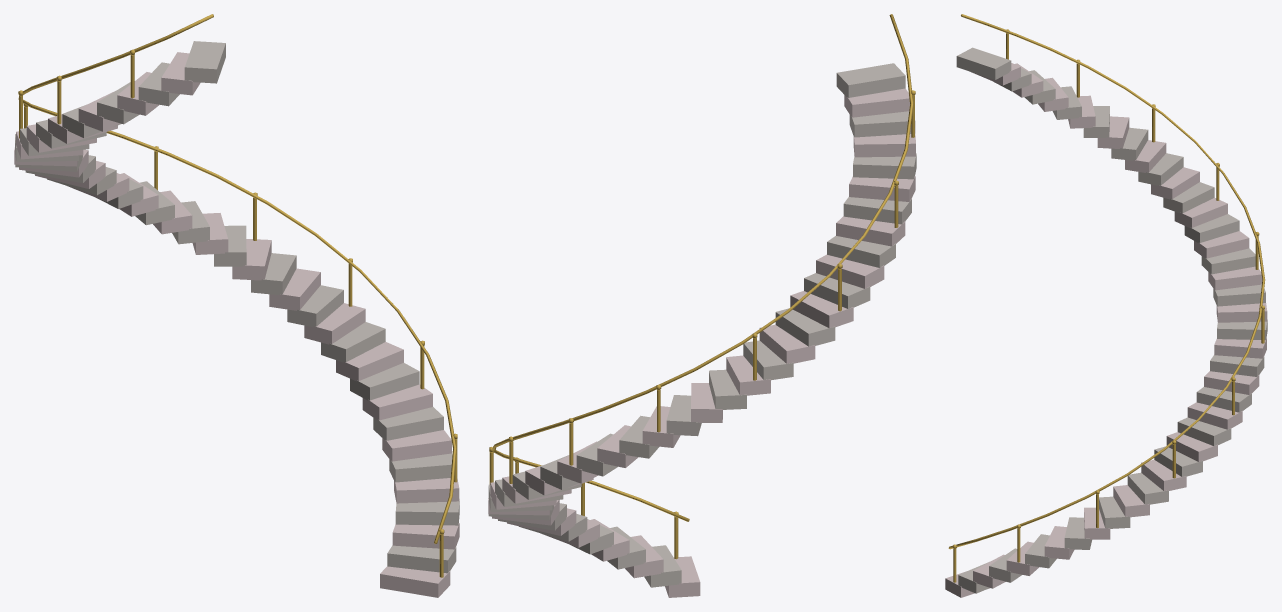
Rendered from watchtower_stair.gltf.
3 views of the same model, side by side, from view 1: azimuth 30°, elevation 25°; view 2: azimuth 150°, elevation 25°; view 3: azimuth 270°, elevation 25° (orthographic). The views are drawn at different scales.
Parts seen in each view (by area): view 1: watchtower_stair; view 2: watchtower_stair; view 3: watchtower_stair.
Boxes of the visible parts, x1,y1,x2,y2 form: watchtower_stair: (14, 14, 459, 597); watchtower_stair: (488, 14, 916, 597); watchtower_stair: (945, 14, 1267, 597).
Size of what is drawn, in the model's own units: 8.43 by 13.24 by 7.84.
